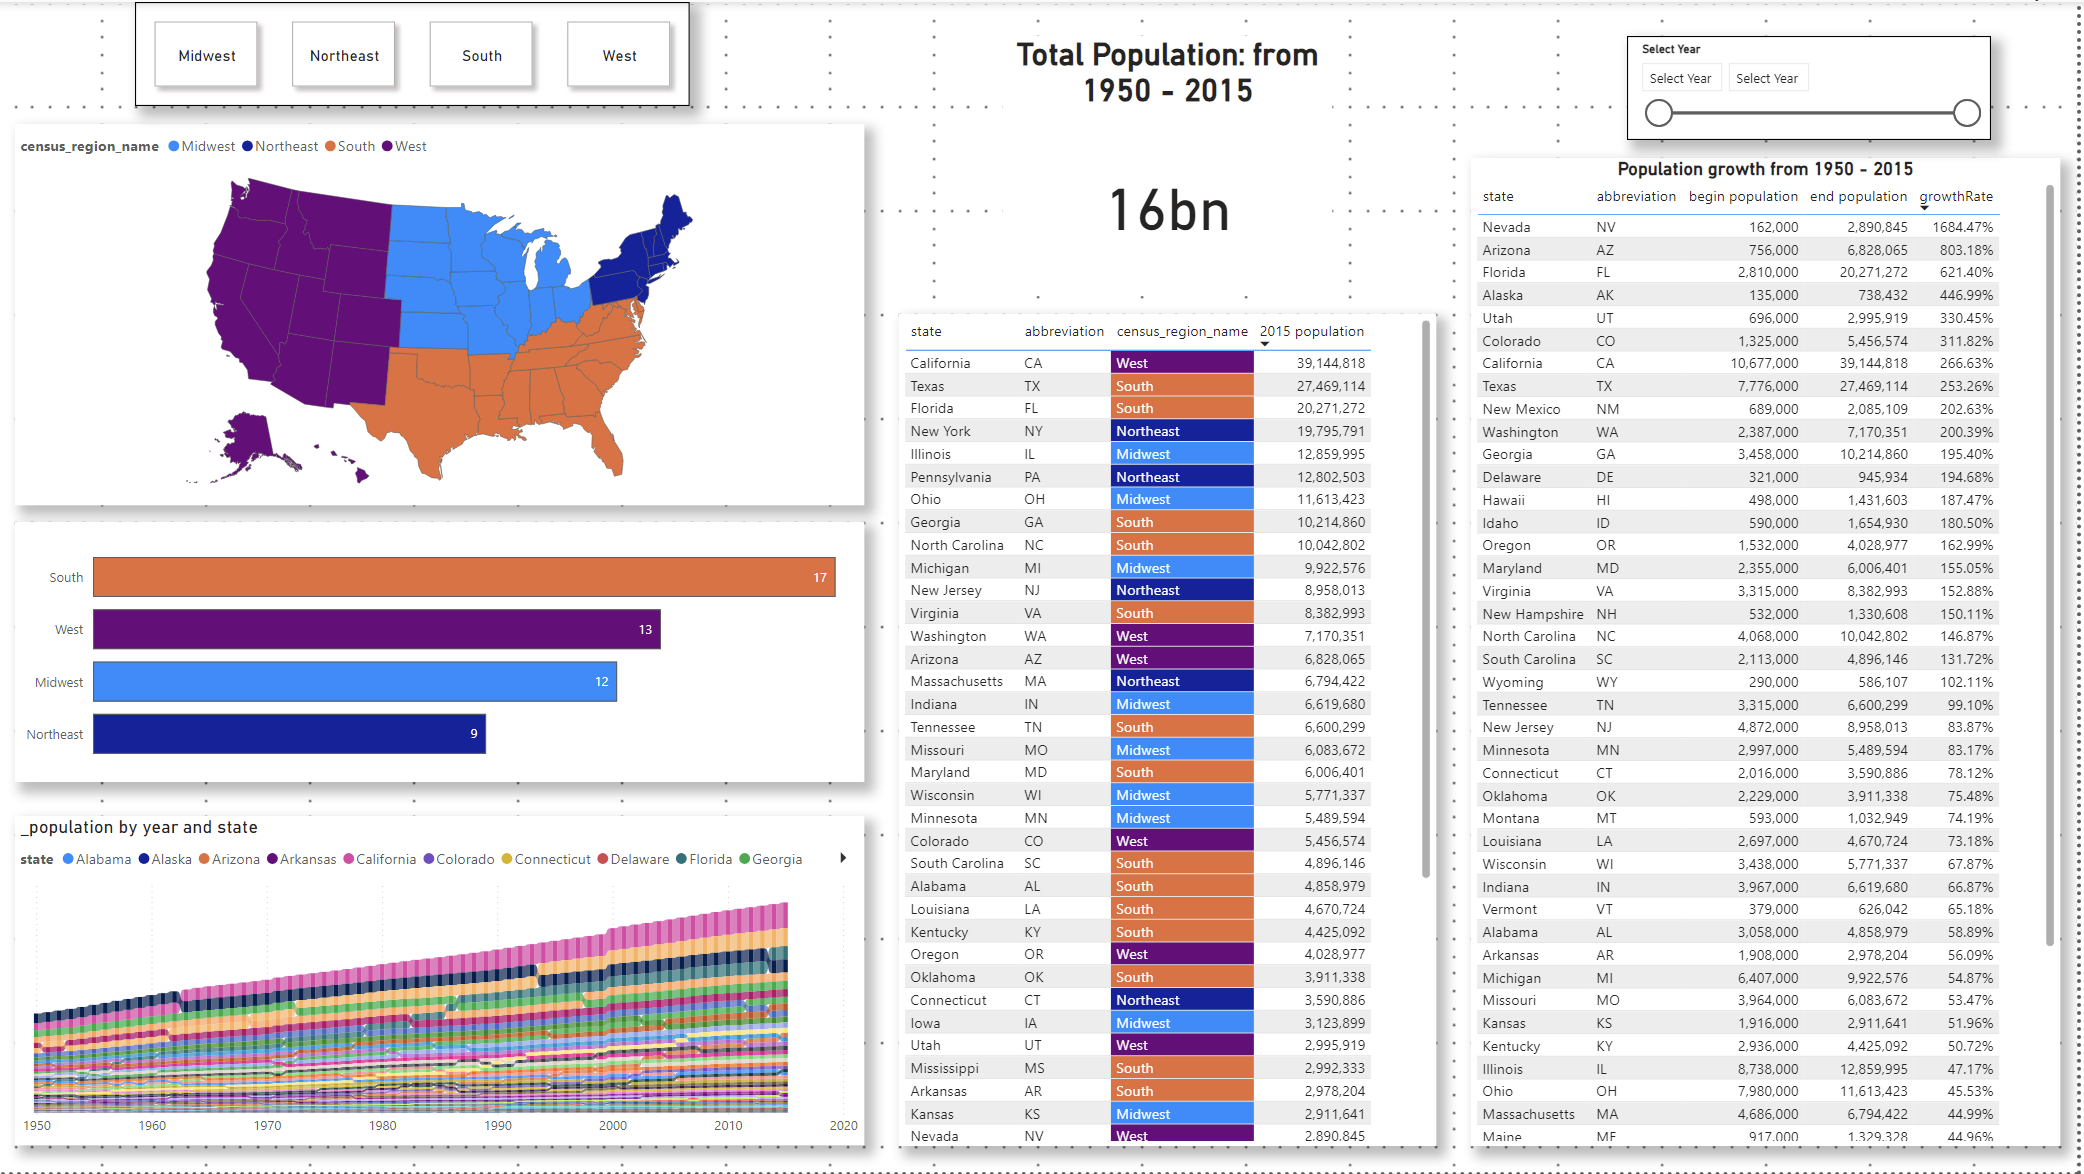

This screenshot's page, from the dashboard's own definition file:
{"tool":"powerbi","page":{"name":"Overview","canvas":[1920,1080],"ordinal":0},"visuals":[{"type":"tableEx","fields":{"Values":["us-states.state","us-states.abbreviation","us-states.census_region_name","us-states.2015 population"]},"box":[832,288,496,768],"z":0},{"type":"shapeMap","title":"USA Regions","fields":{"Series":["us-states.census_region_name"],"Value":["Table.count of states"],"Category":["us-states.state"]},"box":[16,112,784,352],"z":1000},{"type":"advancedSlicerVisual","fields":{"Values":["us-states.census_region_name"]},"box":[128,0,512,96],"z":2000},{"type":"barChart","fields":{"Category":["us-states.census_region_name"],"Y":["CountNonNull(us-states.census_division)"]},"box":[16,480,784,240],"z":3000},{"type":"ribbonChart","fields":{"Category":["us-states-population.year"],"Series":["us-states.state"],"Y":["Table._population"]},"box":[16,752,784,304],"z":4000},{"type":"tableEx","fields":{"Values":["us-states.state","us-states.abbreviation","Table.begin population","Table.end population","Table.growthRate"]},"box":[1360,144,544,912],"z":5000},{"type":"slicer","fields":{"Values":["us-states-population.year"]},"box":[1504,32,336,96],"z":6000},{"type":"card","fields":{"Values":["Table._population"]},"box":[928,32,304,240],"z":6001}]}

Visuals, with their boxes in screenshot pixels (x1, y1, x2, y2), scaled from the page's 1920x1080 canvas onto the 2084x1174 screenshot:
tableEx - us-states.state x us-states.abbreviation: 903, 313, 1441, 1148
"USA Regions" shapeMap: 17, 122, 868, 504
advancedSlicerVisual - us-states.census_region_name: 139, 0, 695, 104
barChart - us-states.census_region_name x CountNonNull(us-states.census_division): 17, 522, 868, 783
ribbonChart - us-states-population.year x us-states.state: 17, 817, 868, 1148
tableEx - us-states.state x us-states.abbreviation: 1476, 157, 2067, 1148
slicer - us-states-population.year: 1632, 35, 1997, 139
card - Table._population: 1007, 35, 1337, 296
